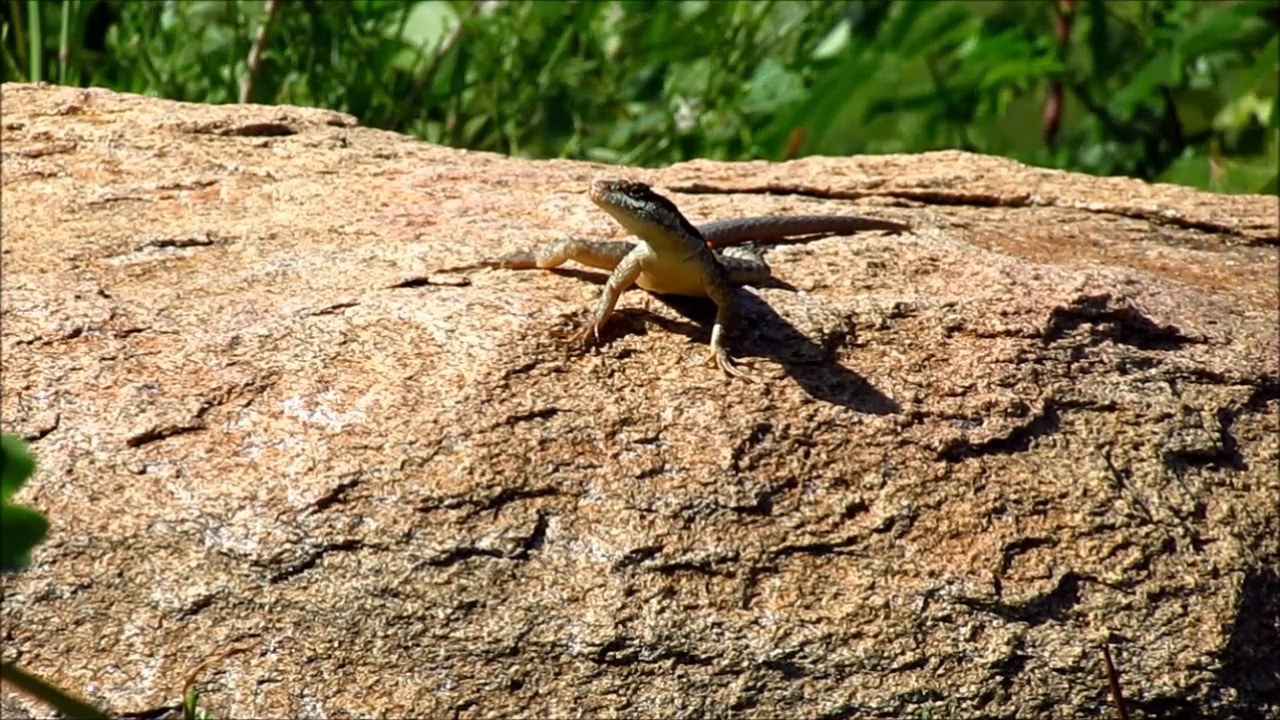body: (477, 212, 907, 392)
head: (590, 175, 670, 239)
